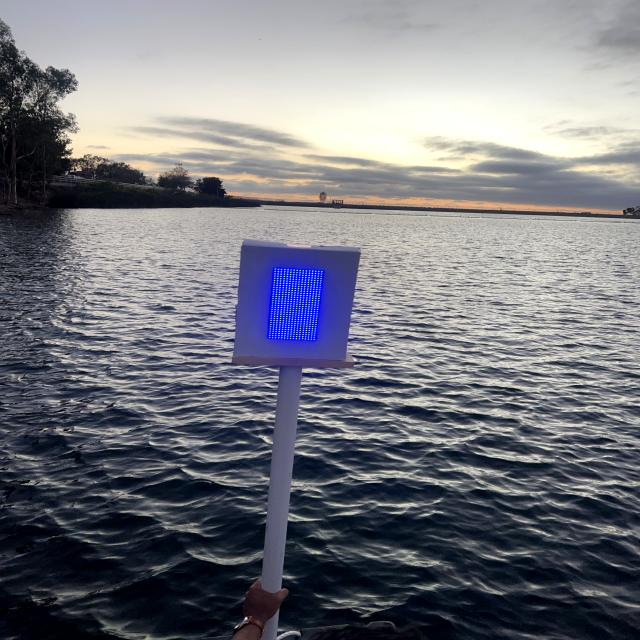led: (255, 255, 342, 354)
